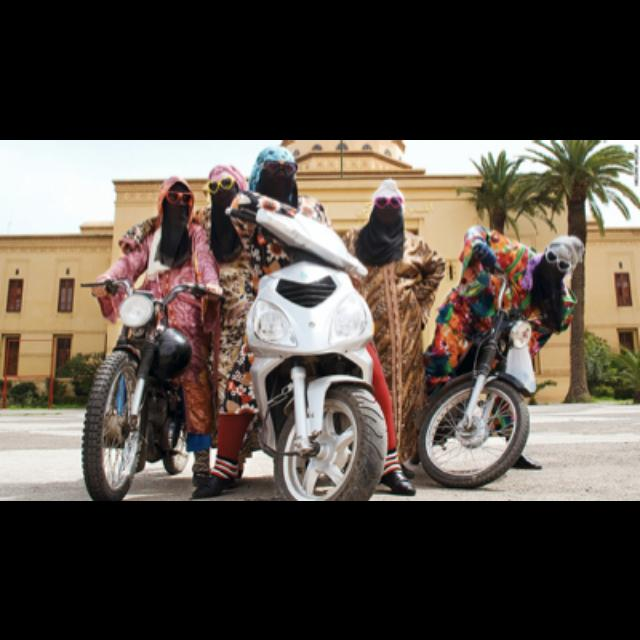Without Helmet: (538, 210, 590, 280), (248, 142, 308, 195), (152, 166, 198, 220), (150, 169, 198, 219), (368, 170, 408, 216)
